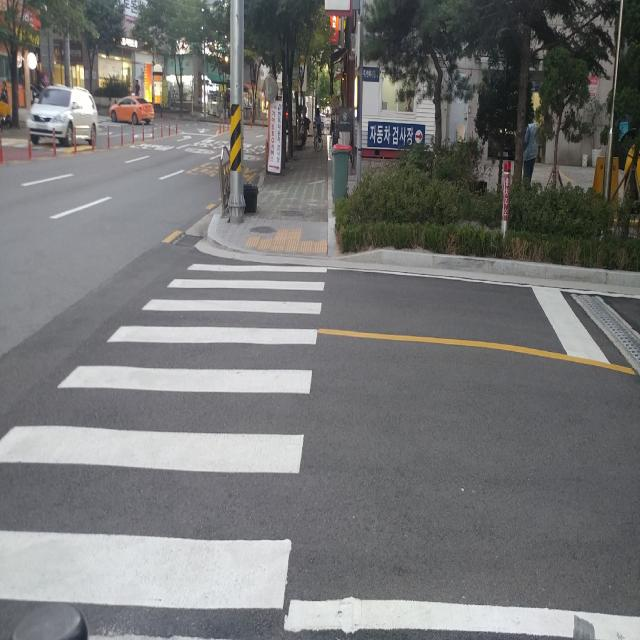횡단보도: (0, 261, 328, 612)
